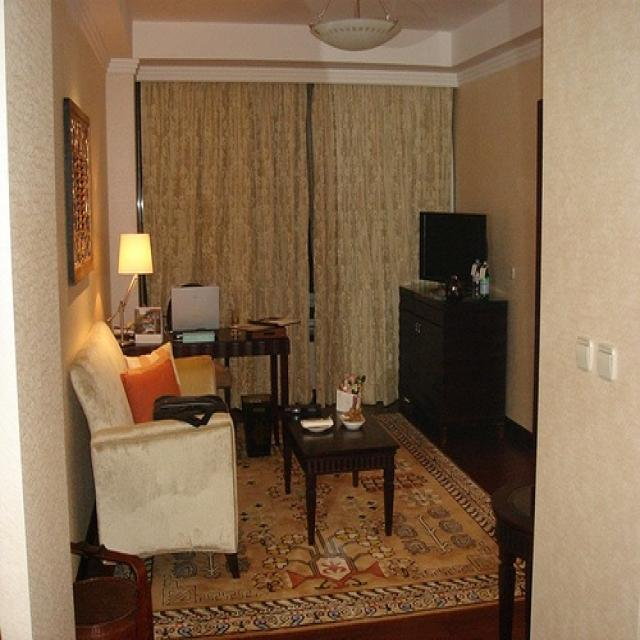sofa: (70, 319, 234, 574)
tvmonitor: (417, 210, 488, 288)
